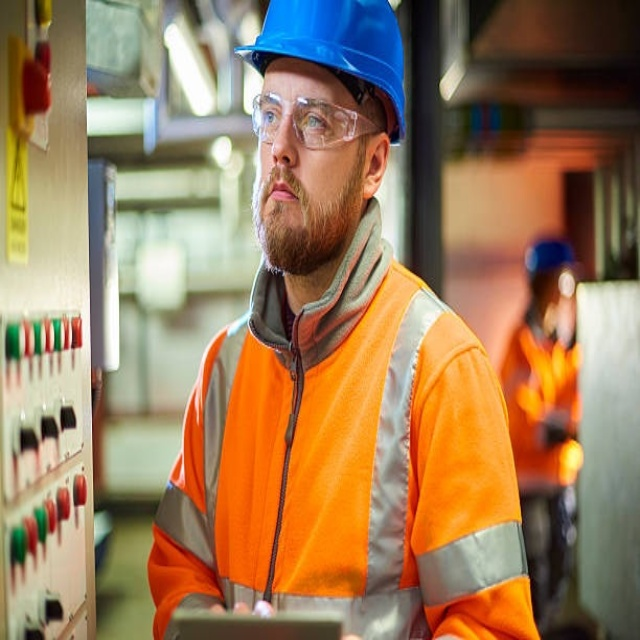Gafas: (249, 89, 379, 152)
Sin_mascara: (257, 166, 308, 229)
